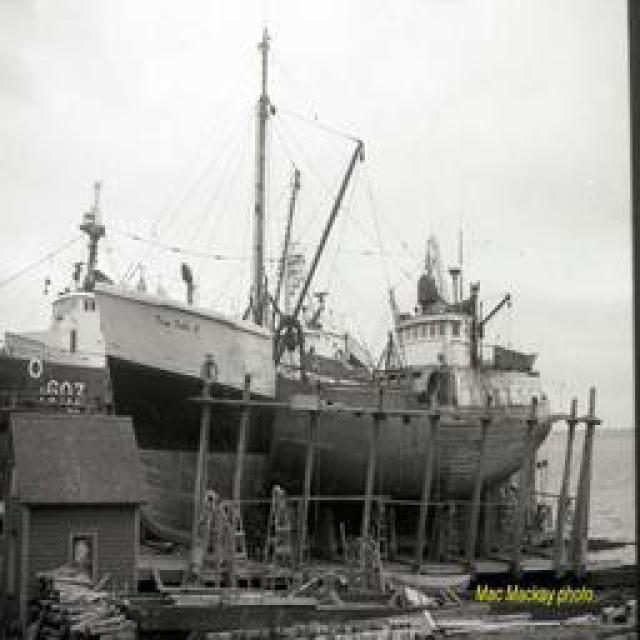Ship: (89, 20, 582, 568)
